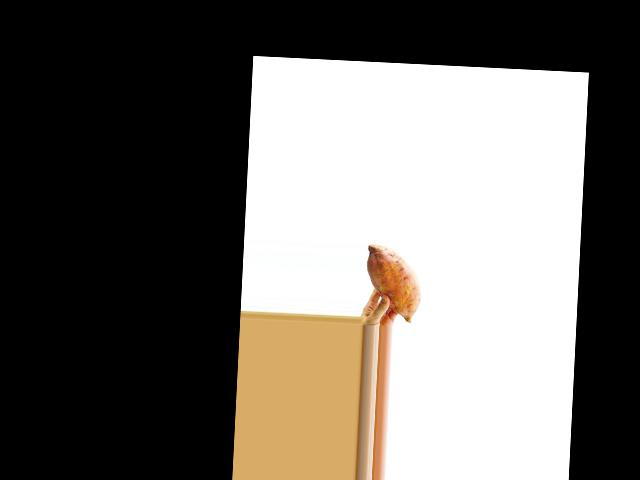sweet_potato: (362, 242, 428, 320)
